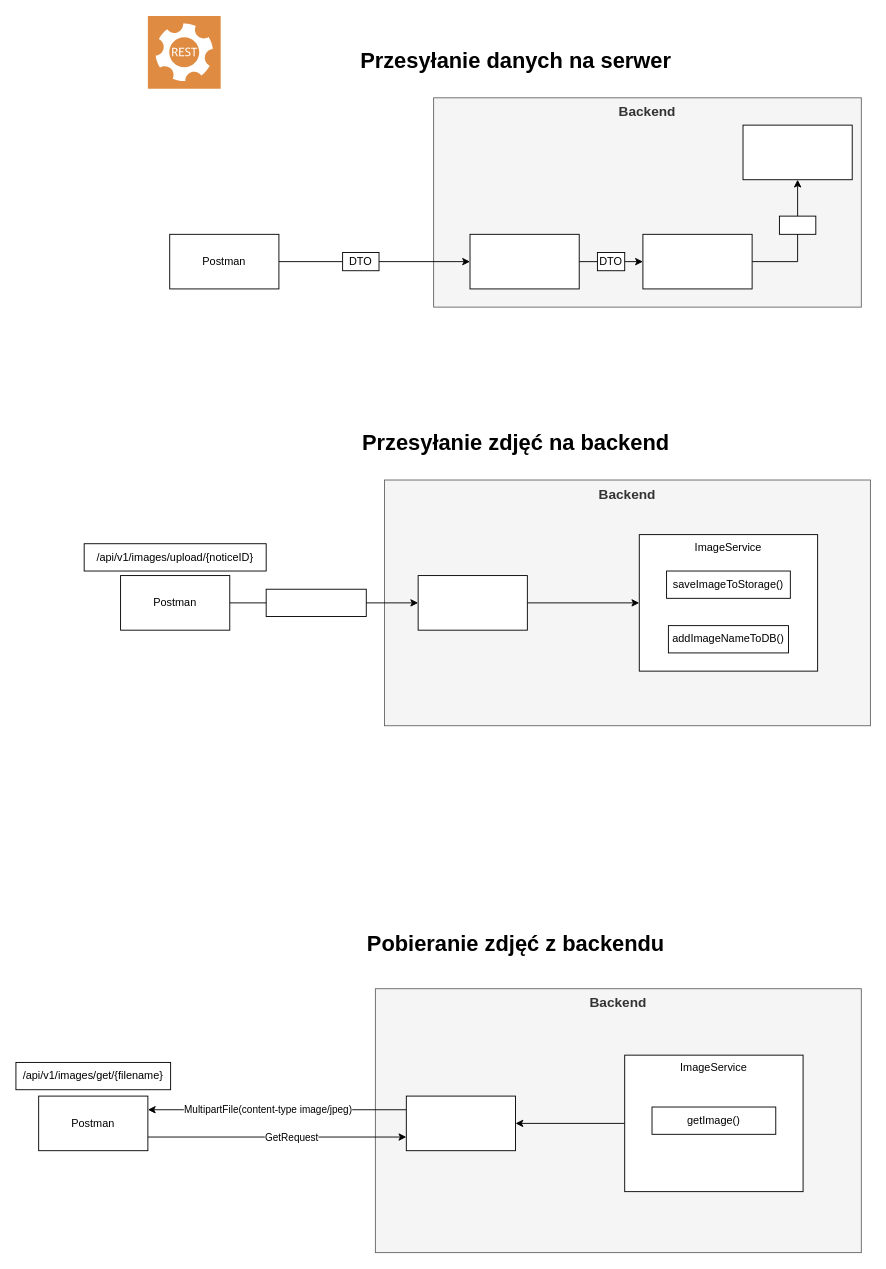
This 886x1269 diagram has some shape labels left out. The shapes that lost their labels are listed below. From the top down, each one's centre as x and y in pixels, then its label:
At [797,152]: "Repository".
At [797,224]: "Entity".
At [524,261]: "Controller".
At [697,261]: "Service".
At [315,602]: "MultipartFile + PathVariable".
At [472,602]: "ImageController (Validation)".
At [460,1123]: "ImageController".
